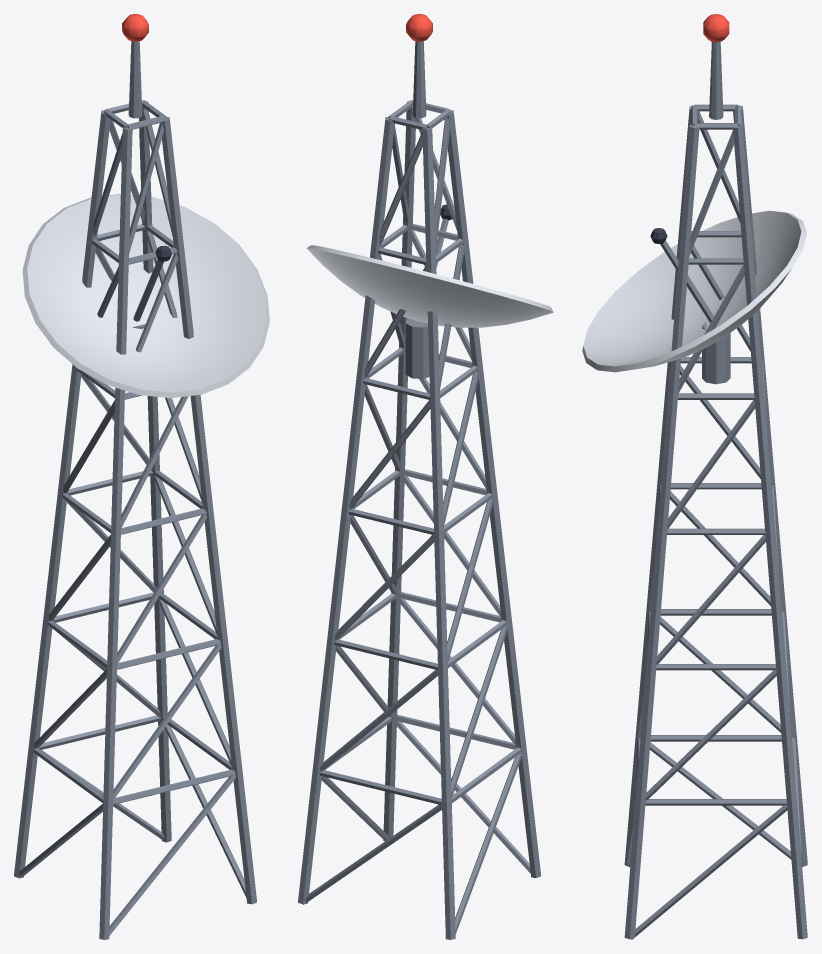
Rendered from wahrzeichen_3.obj.
The picture shows the model from 3 angles, left to right: view 1: azimuth 30°, elevation 25°; view 2: azimuth 150°, elevation 25°; view 3: azimuth 270°, elevation 25°; orthographic projection.
Visible parts, largest first — view 1: wahrzeichen_3_Koerper, wahrzeichen_3_Dreh; view 2: wahrzeichen_3_Koerper, wahrzeichen_3_Dreh; view 3: wahrzeichen_3_Koerper, wahrzeichen_3_Dreh.
Boxes of the visible parts, x1,y1,x2,y2 form: wahrzeichen_3_Koerper: (14, 14, 256, 939); wahrzeichen_3_Dreh: (22, 194, 269, 398); wahrzeichen_3_Koerper: (298, 14, 540, 939); wahrzeichen_3_Dreh: (306, 204, 553, 378); wahrzeichen_3_Koerper: (624, 14, 807, 939); wahrzeichen_3_Dreh: (582, 210, 806, 384).
Bounding box in the file's own units: 1.8 × 6.8 × 1.56.
